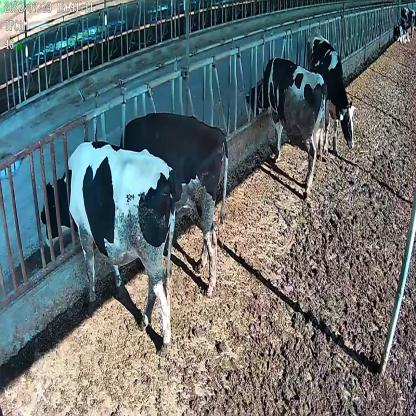cow: (40, 141, 175, 354), (120, 112, 230, 296), (247, 55, 328, 188), (306, 31, 358, 155)
